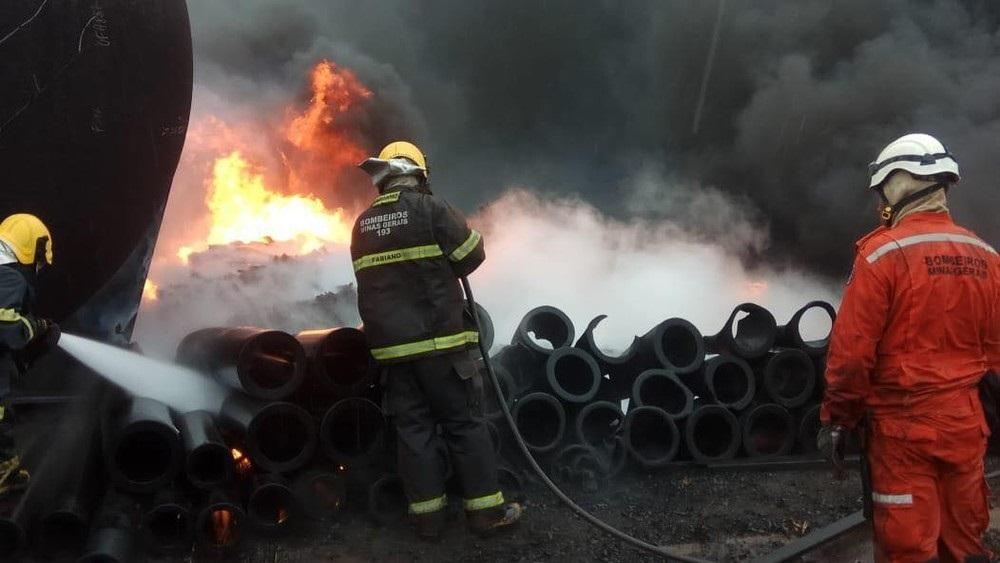Fire: (173, 66, 380, 267), (141, 278, 163, 301)
